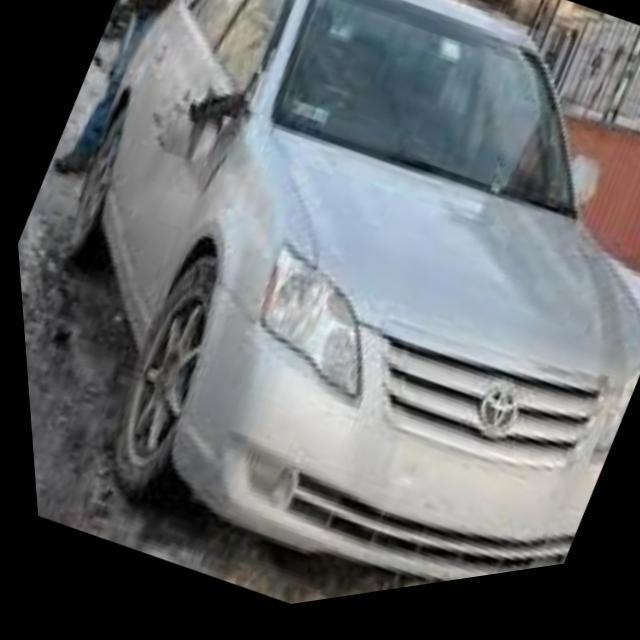crack: (141, 75, 250, 203)
